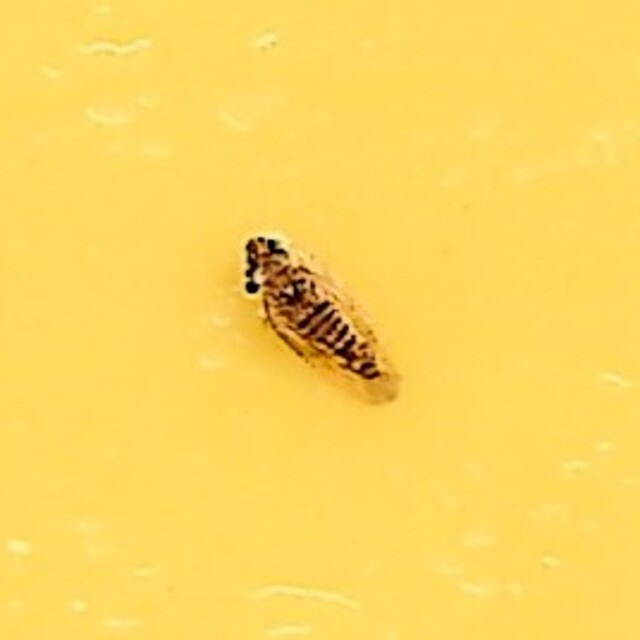Hemiptera: (239, 233, 401, 407)
